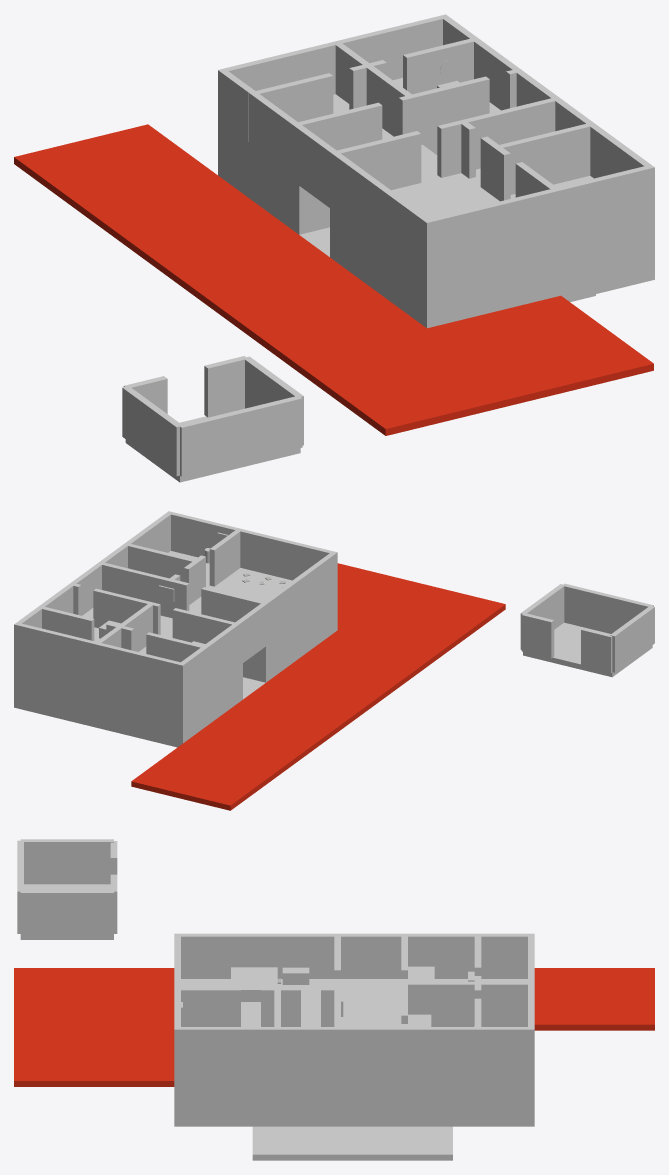
File: ARI HO.fbx
3 renders of one model, top to bottom at view 1: azimuth 30°, elevation 25°; view 2: azimuth 150°, elevation 25°; view 3: azimuth 270°, elevation 25°, orthographic. The views are drawn at different scales.
Visible parts, largest first — view 1: LivingRoom2__3_, LivingRoom2__1_, LivingRoom2__2_, LivingRoom2__5_, LivingRoom2__4_, Cube__26_, Cube__6__1, Cube__5_, Cube__4__1, Cube__7__2, Cube__4_, Cube__6_ (+35 smaller); view 2: LivingRoom2__5_, LivingRoom2__4_, LivingRoom2__3_, LivingRoom2__2_, Cube__18_, Cube__22__2, Cube__23__2, Cube__6__1, Cube__4__1, Cube__26_, Cube__4_, Cube__15_ (+32 smaller); view 3: LivingRoom2__1_, LivingRoom2__3_, LivingRoom2__5_, Entrance2__1_, Cube__4__1, Cube__14_, Cube__28_, Cube__7_, Cube__9__2, Cube__27_, Cube__12__2, Cube_7 (+25 smaller).
Part boxes in pixels (bbox=[...]): LivingRoom2__3_: bbox=[292, 328, 519, 435]; LivingRoom2__1_: bbox=[427, 295, 653, 403]; LivingRoom2__2_: bbox=[200, 260, 426, 367]; LivingRoom2__5_: bbox=[14, 124, 240, 231]; LivingRoom2__4_: bbox=[107, 192, 333, 299]; Cube__26_: bbox=[179, 396, 302, 476]; Cube__6__1: bbox=[430, 189, 554, 270]; Cube__5_: bbox=[433, 246, 560, 326]; Cube__4__1: bbox=[334, 153, 433, 271]; Cube__7__2: bbox=[557, 164, 654, 239]; Cube__4_: bbox=[334, 211, 433, 328]; Cube__6_: bbox=[561, 223, 654, 295]; LivingRoom2__5_: bbox=[131, 731, 299, 810]; LivingRoom2__4_: bbox=[200, 680, 368, 759]; LivingRoom2__3_: bbox=[338, 580, 505, 659]; LivingRoom2__2_: bbox=[269, 630, 436, 709]; Cube__18_: bbox=[83, 683, 185, 743]; Cube__22__2: bbox=[98, 643, 180, 700]; Cube__23__2: bbox=[19, 623, 95, 679]; Cube__6__1: bbox=[240, 529, 332, 580]; Cube__4__1: bbox=[264, 551, 337, 638]; Cube__26_: bbox=[562, 583, 653, 633]; Cube__4_: bbox=[269, 594, 337, 680]; Cube__15_: bbox=[19, 667, 83, 719]; LivingRoom2__1_: bbox=[14, 1024, 174, 1086]; LivingRoom2__3_: bbox=[14, 968, 174, 1024]; LivingRoom2__5_: bbox=[534, 968, 654, 1030]; Entrance2__1_: bbox=[252, 1126, 452, 1160]; Cube__4__1: bbox=[174, 933, 334, 978]; Cube__14_: bbox=[401, 1078, 534, 1120]; Cube__28_: bbox=[20, 890, 113, 935]; Cube__7_: bbox=[181, 1078, 280, 1120]; Cube__9__2: bbox=[181, 1027, 274, 1071]; Cube__27_: bbox=[20, 839, 113, 884]; Cube__12__2: bbox=[401, 1027, 481, 1071]; Cube_7: bbox=[334, 1027, 401, 1071].
Size of the model in its own units: 8462 by 2258 by 9600.
